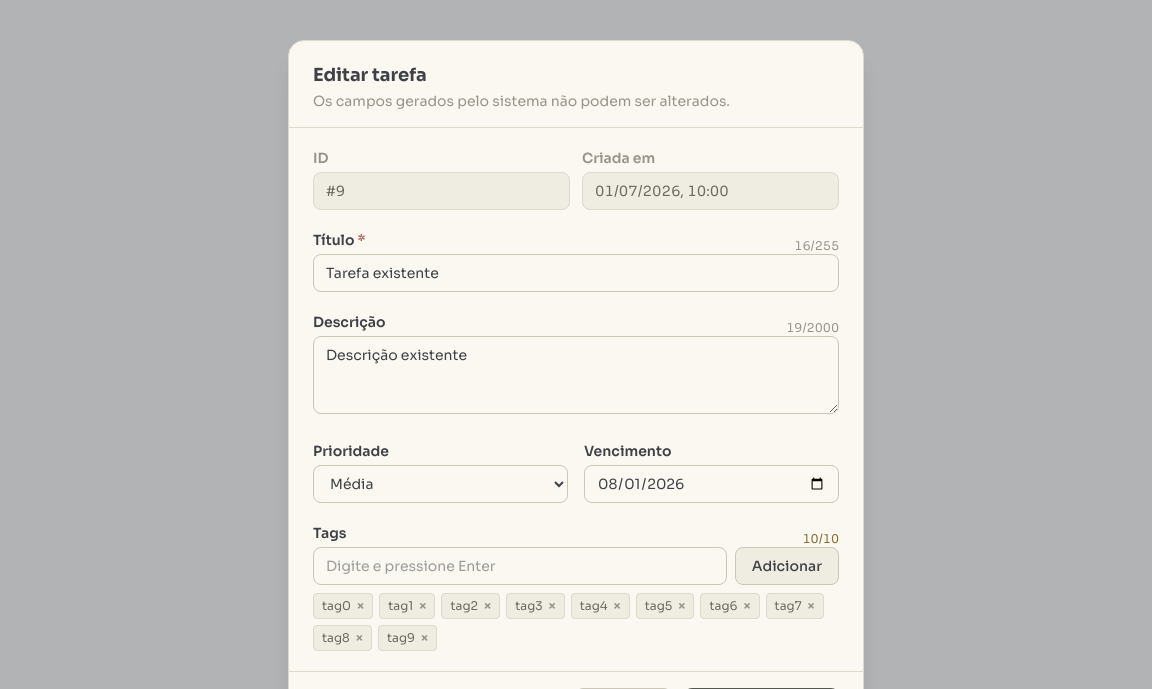
Test: TaskForm - tags › rejeita a 11ª tag ao atingir o limite
Expected: the text "10/10" is shown, [802,531,839,547]
In the field labelled "Tags": (520, 566) [313,547,727,585], type "tag10"
Then press Enter
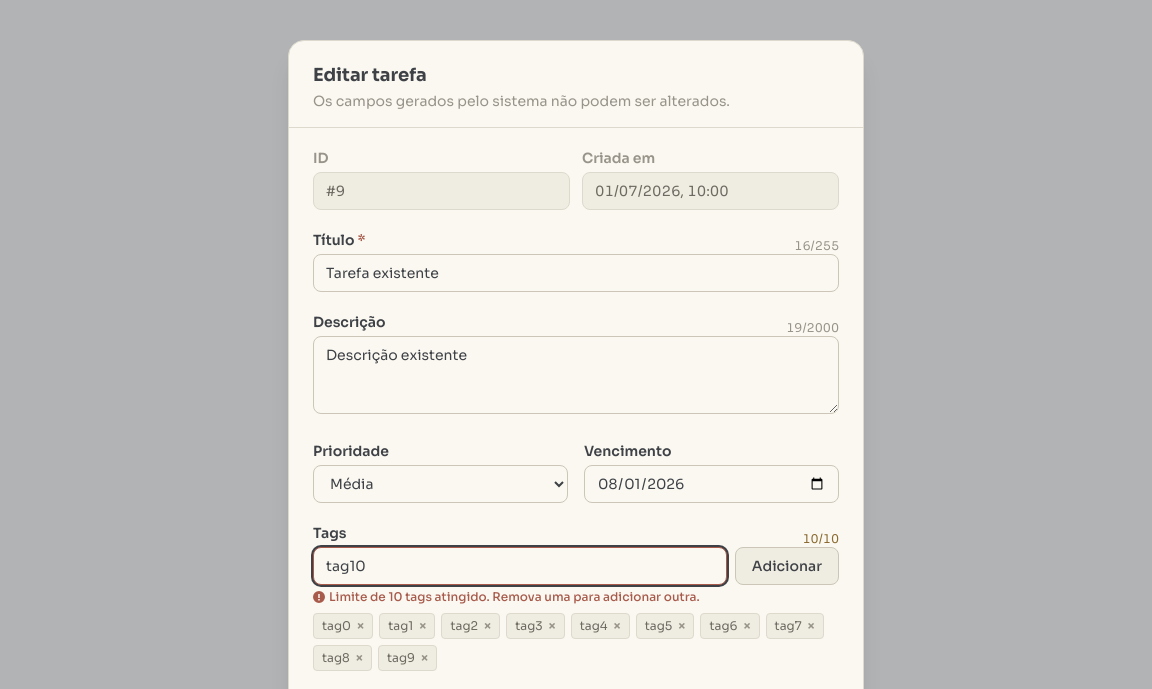
Expected: the text "10/10" is shown, [802,531,839,547]
Result: the text "Limite de 10 tags atingido. Remova uma para adicionar outra." is shown at [313,589,700,604]
